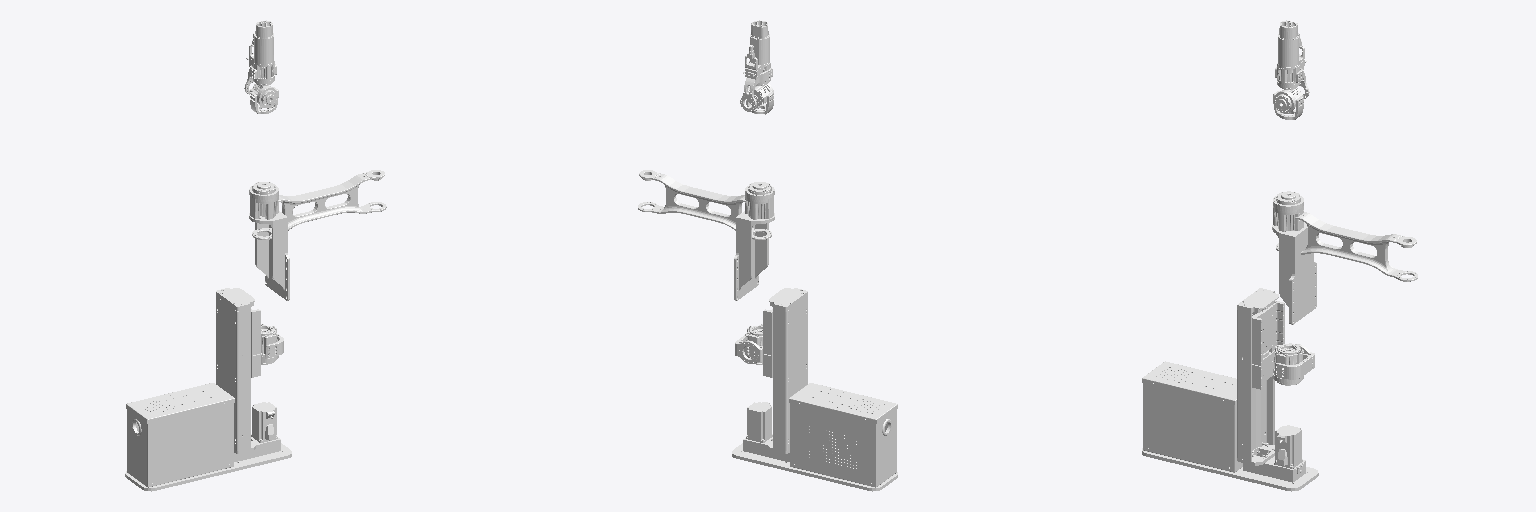
robot.urdf — talon:
<?xml version="1.0" encoding="utf-8"?>
<!-- This URDF was automatically created by SolidWorks to URDF Exporter! Originally created by Stephen Brawner (brawner@gmail.com) 
     Commit Version: 1.6.0-1-g15f4949  Build Version: 1.6.7594.29634
     For more information, please see http://wiki.ros.org/sw_urdf_exporter -->
<robot name="talon">
    <mujoco>
        <compiler strippath="false"/>
    </mujoco>
    <link name="base_link">
        <visual>
            <origin xyz="0 0 0" rpy="0 0 3.1415926535897932384626"/>
            <geometry>
                <mesh filename="meshes/base_link.STL"/>
            </geometry>
            <material name="">
                <color rgba="1 1 1 1"/>
            </material>
        </visual>
        <collision>
            <origin xyz="0 0 0" rpy="0 0 3.1415926535897932384626"/>
            <geometry>
                <mesh filename="meshes/base_link.STL"/>
            </geometry>
        </collision>
    </link>
    <link name="link_1">
        <inertial>
        <origin
            xyz="0.0 0.008 -0.071"
            rpy="0 0 0" />
        <mass
            value="5.683" />
        <inertia
            ixx="0.075"
            ixy="0"
            ixz="0"
            iyy="0.075"
            iyz="-0.002"
            izz="0.012" />
        </inertial>
        <visual>
            <origin xyz="0 0 0" rpy="0 0 0"/>
            <geometry>
                <mesh filename="meshes/link_1.STL"/>
            </geometry>
            <material name="">
                <color rgba="1 1 1 1"/>
            </material>
        </visual>
        <collision>
            <origin xyz="0 0 0" rpy="0 0 3.1415926535897932384626"/>
            <geometry>
                <mesh filename="meshes/link_1.STL"/>
            </geometry>
        </collision>
    </link>
    <joint name="joint_1" type="continuous">
        <origin xyz="0.0 0.0 0.348" rpy="0 0 0"/>
        <parent link="base_link"/>
        <child link="link_1"/>
        <axis xyz="0 0 1"/>
        <hardware id="0" type="driver">
            <limit lower="-2.84" upper="2.84"  vel="3.0" acc="10.0" jerk="150.0" effort="30.0"/>
            <transform ratio="1.0" offset_pos_cnt="0" cnt_per_unit="156455.678" torque_per_unit="1.0"
                       user_unit_name="rad"/>
             <inputs name="Inputs">
                <status_word>Statusword</status_word>
                <position_actual_value>Position actual value</position_actual_value>
                <velocity_actual_value>Velocity actual value</velocity_actual_value>
                <torque_actual_value>Torque actual value</torque_actual_value>
                <load_torque_value>Analog Input 1</load_torque_value>
                <secondary_position_value>Auxiliary position actual value</secondary_position_value>
                <secondary_velocity_value>Secondary velocity value</secondary_velocity_value>
            </inputs>
            <outputs name="Outputs">
                <control_word>Controlword</control_word>
                <mode_of_operation>Modes of operation</mode_of_operation>
                <target_position>Target position</target_position>
                <target_velocity>Target velocity</target_velocity>
                <target_torque>Target torque</target_torque>
            </outputs>        
        </hardware>
    </joint>
    <link name="link_2">
    <inertial>
        <origin
            xyz="0.000 0.117 0.024"
            rpy="0 0 0" />
        <mass
            value="3.99" />
        <inertia
            ixx="0.099"
            ixy="0"
            ixz="0"
            iyy="0.01"
            iyz="0.002"
            izz="0.096" />
        </inertial>
        
        <visual>
            <origin xyz="0 0 0" rpy="0 0 0"/>
            <geometry>
                <mesh filename="meshes/link_2.STL"/>
            </geometry>
            <material name="">
                <color rgba="1 1 1 1"/>
            </material>
        </visual>
        <collision>
            <origin xyz="0 0 0" rpy="0 0 3.1415926535897932384626"/>
            <geometry>
                <mesh filename="meshes/link_2.STL"/>
            </geometry>
        </collision>
    </link>
    <joint name="joint_2" type="continuous">
        <origin xyz="0 0 0" rpy="1.5707963267948966 0 0"/>
        <parent link="link_1"/>
        <child link="link_2"/>
        <axis xyz="0 0 1"/>
        <hardware id="1" type="driver">
            <limit lower="-2.22" upper="2.22" vel="3.0" acc="10.0" jerk="150.0" effort="30.0" />
            <transform ratio="1.0" offset_pos_cnt="0" cnt_per_unit="156455.678" torque_per_unit="1.0" user_unit_name="rad"/>
            <inputs name="Inputs">
                <status_word>Statusword</status_word>
                <position_actual_value>Position actual value</position_actual_value>
                <velocity_actual_value>Velocity actual value</velocity_actual_value>
                <torque_actual_value>Torque actual value</torque_actual_value>
                <load_torque_value>Analog Input 1</load_torque_value>
                <secondary_position_value>Auxiliary position actual value</secondary_position_value>
                <secondary_velocity_value>Secondary velocity value</secondary_velocity_value>
            </inputs>
            <outputs name="Outputs">
                <control_word>Controlword</control_word>
                <mode_of_operation>Modes of operation</mode_of_operation>
                <target_position>Target position</target_position>
                <target_velocity>Target velocity</target_velocity>
                <target_torque>Target torque</target_torque>
            </outputs>  
        </hardware>
    </joint>
    <link name="link_3">
        <inertial>
        <origin
            xyz="0.000 0.009 -0.058"
            rpy="0 0 0" />
        <mass
            value="3.685" />
        <inertia
            ixx="0.034"
            ixy="0"
            ixz="0"
            iyy="0.021"
            iyz="-0.001"
            izz="0.006" />
        </inertial>
        <visual>
            <origin xyz="0 0 0" rpy="0 0 0"/>
            <geometry>
                <mesh filename="meshes/link_3.STL"/>
            </geometry>
            <material name="">
                <color rgba="1 1 1 1"/>
            </material>
        </visual>
        <collision>
            <origin xyz="0 0 0" rpy="0 0 3.1415926535897932384626"/>
            <geometry>
                <mesh filename="meshes/link_3.STL"/>
            </geometry>
        </collision>
    </link>
    <joint name="joint_3" type="continuous">
        <origin xyz="0 0.41 0" rpy="-1.5707963267948966 0 0"/>
        <parent link="link_2"/>
        <child link="link_3"/>
        <axis xyz="0 0 1"/>
        <hardware id="2" type="driver">
            <limit lower="-2.84" upper="2.84" vel="3.0" acc="10.0" jerk="150.0" effort="30.0" />
            <transform ratio="1.0" offset_pos_cnt="0" cnt_per_unit="156455.678" torque_per_unit="1.0" user_unit_name="rad"/>
            <inputs name="Inputs">
                <status_word>Statusword</status_word>
                <position_actual_value>Position actual value</position_actual_value>
                <velocity_actual_value>Velocity actual value</velocity_actual_value>
                <torque_actual_value>Torque actual value</torque_actual_value>
                <load_torque_value>Analog Input 1</load_torque_value>
                <secondary_position_value>Auxiliary position actual value</secondary_position_value>
                <secondary_velocity_value>Secondary velocity value</secondary_velocity_value>
            </inputs>
            <outputs name="Outputs">
                <control_word>Controlword</control_word>
                <mode_of_operation>Modes of operation</mode_of_operation>
                <target_position>Target position</target_position>
                <target_velocity>Target velocity</target_velocity>
                <target_torque>Target torque</target_torque>
            </outputs>  
        </hardware>
    </joint>
    <link name="link_4">
        <inertial>
        <origin
            xyz="0.000 0.136 0.016"
            rpy="0 0 0" />
        <mass
            value="3.185" />
        <inertia
            ixx="0.085"
            ixy="0"
            ixz="0"
            iyy="0.006"
            iyz="0.001"
            izz="0.084" />
        </inertial>
        <visual>
            <origin xyz="0 0 0" rpy="0 0 0"/>
            <geometry>
                <mesh filename="meshes/link_4.STL"/>
            </geometry>
            <material name="">
                <color rgba="1 1 1 1"/>
            </material>
        </visual>
        <collision>
            <origin xyz="0 0 0"
                    rpy="0 0 3.1415926535897932384626"/>
            <geometry>
                <mesh filename="meshes/link_4.STL"/>
            </geometry>
        </collision>
    </link>
    <joint name="joint_4" type="continuous">
        <origin xyz="0 0 0" rpy="1.5707963267948966 0 0"/>
        <parent link="link_3"/>
        <child link="link_4"/>
        <axis xyz="0 0 1"/>
        <hardware id="3" type="driver">
            <limit lower="-2.23" upper="2.23" vel="3.0" acc="10.0" jerk="150.0" effort="30.0" />
            <transform ratio="1.0" offset_pos_cnt="0" cnt_per_unit="156455.678" torque_per_unit="1.0" user_unit_name="rad"/>
            <inputs name="Inputs">
                <status_word>Statusword</status_word>
                <position_actual_value>Position actual value</position_actual_value>
                <velocity_actual_value>Velocity actual value</velocity_actual_value>
                <torque_actual_value>Torque actual value</torque_actual_value>
                <load_torque_value>Analog Input 1</load_torque_value>
                <secondary_position_value>Auxiliary position actual value</secondary_position_value>
                <secondary_velocity_value>Secondary velocity value</secondary_velocity_value>
            </inputs>
            <outputs name="Outputs">
                <control_word>Controlword</control_word>
                <mode_of_operation>Modes of operation</mode_of_operation>
                <target_position>Target position</target_position>
                <target_velocity>Target velocity</target_velocity>
                <target_torque>Target torque</target_torque>
            </outputs>  
        </hardware>
    </joint>
    <link name="link_5">
        <inertial>
        <origin
            xyz="0 0.008 -0.071"
            rpy="0 0 0" />
        <mass
            value="2.932" />
        <inertia
            ixx="0.032"
            ixy="0"
            ixz="0.003"
            iyy="0.032"
            iyz="-0.001"
            izz="0.004" />
        </inertial>
        <visual>
            <origin xyz="0 0 0" rpy="0 0 0"/>
            <geometry>
                <mesh filename="meshes/link_5.STL"/>
            </geometry>
            <material name="">
                <color rgba="1 1 1 1"/>
            </material>
        </visual>
        <collision>
            <origin xyz="0 0 0" rpy="0 0 3.1415926535897932384626"/>
            <geometry>
                <mesh filename="meshes/link_5.STL"/>
            </geometry>
        </collision>
    </link>
    <joint name="joint_5" type="continuous">
        <origin xyz="0 0.401 0" rpy="-1.5707963267948966 0 0"/>
        <parent link="link_4"/>
        <child link="link_5"/>
        <axis xyz="0 0 1"/>
        <hardware id="4" type="driver">
            <limit lower="-2.71" upper="2.71" vel="3.0" acc="10.0" jerk="150.0" effort="30.0" />
            <transform ratio="1.0" offset_pos_cnt="0" cnt_per_unit="156455.678" torque_per_unit="1.0" user_unit_name="rad"/>
            <inputs name="Inputs">
                <status_word>Statusword</status_word>
                <position_actual_value>Position actual value</position_actual_value>
                <velocity_actual_value>Velocity actual value</velocity_actual_value>
                <torque_actual_value>Torque actual value</torque_actual_value>
                <load_torque_value>Analog Input 1</load_torque_value>
                <secondary_position_value>Auxiliary position actual value</secondary_position_value>
                <secondary_velocity_value>Secondary velocity value</secondary_velocity_value>
            </inputs>
            <outputs name="Outputs">
                <control_word>Controlword</control_word>
                <mode_of_operation>Modes of operation</mode_of_operation>
                <target_position>Target position</target_position>
                <target_velocity>Target velocity</target_velocity>
                <target_torque>Target torque</target_torque>
            </outputs>  
        </hardware>
    </joint>
    <link name="link_6">
         <inertial>
        <origin
            xyz="0.000 0.089 0.018"
            rpy="0 0 0" />
        <mass
            value="2.043" />
        <inertia
            ixx="0.029"
            ixy="0"
            ixz="0"
            iyy="0.003"
            iyz="0.001"
            izz="0.028" />
        </inertial>
        <visual>
            <origin xyz="0 0 0" rpy="0 0 0"/>
            <geometry>
                <mesh filename="meshes/link_6.STL"/>
            </geometry>
            <material name="">
                <color rgba="1 1 1 1"/>
            </material>
        </visual>
        <collision>
            <origin xyz="0 0 0" rpy="0 0 3.1415926535897932384626"/>
            <geometry>
                <mesh filename="meshes/link_6.STL"/>
            </geometry>
        </collision>
    </link>
    <joint name="joint_6" type="continuous">
        <origin xyz="0 0 0" rpy="1.5707963267948966 0 0"/>
        <parent link="link_5"/>
        <child link="link_6"/>
        <axis xyz="0 0 1"/>
        <hardware id="5" type="driver">
            <limit lower="-2.11" upper="2.11" vel="3.0" acc="10.0" jerk="150.0" effort="30.0" />
            <transform ratio="1.0" offset_pos_cnt="0" cnt_per_unit="130379.73" torque_per_unit="1.0" user_unit_name="rad"/>
            <inputs name="Inputs">
                <status_word>Statusword</status_word>
                <position_actual_value>Position actual value</position_actual_value>
                <velocity_actual_value>Velocity actual value</velocity_actual_value>
                <torque_actual_value>Torque actual value</torque_actual_value>
                <load_torque_value>Analog Input 1</load_torque_value>
                <secondary_position_value>Auxiliary position actual value</secondary_position_value>
                <secondary_velocity_value>Secondary velocity value</secondary_velocity_value>
            </inputs>
            <outputs name="Outputs">
                <control_word>Controlword</control_word>
                <mode_of_operation>Modes of operation</mode_of_operation>
                <target_position>Target position</target_position>
                <target_velocity>Target velocity</target_velocity>
                <target_torque>Target torque</target_torque>
            </outputs>  
        </hardware>
    </joint>
    <link name="link_7">
        <inertial>
        <origin
            xyz="0.000 0.00 -0.032"
            rpy="0 0 0" />
        <mass
            value="0.994" />
        <inertia
            ixx="0.002"
            ixy="0"
            ixz="0"
            iyy="0.002"
            iyz="0"
            izz="0.001" />
        </inertial>
        <visual>
            <origin xyz="0 0 0" rpy="0 0 0"/>
            <geometry>
                <mesh filename="meshes/link_7.STL"/>
            </geometry>
            <material name="">
                <color rgba="1 1 1 1"/>
            </material>
        </visual>
        <collision>
            <origin xyz="0 0 0" rpy="0 0 0"/>
            <geometry>
                <mesh filename="meshes/link_7.STL"/>
            </geometry>
        </collision>
    </link>
    <joint name="joint_7" type="continuous">
        <origin xyz="0 0.230 0" rpy="-1.5707963267948966 0 0"/>
        <parent link="link_6"/>
        <child link="link_7"/>
        <axis xyz="0 0 1"/>
        <hardware id="6" type="driver">
            <limit lower="-2.84" upper="2.84" vel="3.0" acc="10.0" jerk="150.0" effort="30.0" />
            <transform ratio="1.0" offset_pos_cnt="0" cnt_per_unit="130379.73" torque_per_unit="1.0" user_unit_name="rad"/>
            <inputs name="Inputs">
                <status_word>Statusword</status_word>
                <position_actual_value>Position actual value</position_actual_value>
                <velocity_actual_value>Velocity actual value</velocity_actual_value>
                <torque_actual_value>Torque actual value</torque_actual_value>
                <load_torque_value>Analog Input 1</load_torque_value>
                <secondary_position_value>Auxiliary position actual value</secondary_position_value>
                <secondary_velocity_value>Secondary velocity value</secondary_velocity_value>
            </inputs>
            <outputs name="Outputs">
                <control_word>Controlword</control_word>
                <mode_of_operation>Modes of operation</mode_of_operation>
                <target_position>Target position</target_position>
                <target_velocity>Target velocity</target_velocity>
                <target_torque>Target torque</target_torque>
            </outputs>  
        </hardware>
    </joint>
</robot>

--- Render facts (derived) ---
3 views of the same robot in one strip: view 1: azimuth 30°, elevation 25°; view 2: azimuth 150°, elevation 25°; view 3: azimuth 330°, elevation 25° (orthographic).
Robot: talon — 8 links, 7 joints (7 continuous); root link base_link; default pose: every joint at zero.
Links seen in each view (by area): view 1: base_link, link_1, link_3, link_7, link_2, link_5, link_6; view 2: base_link, link_1, link_3, link_7, link_2, link_6, link_5; view 3: base_link, link_1, link_3, link_2, link_7, link_5, link_6.
Boxes of the visible links, bbox=[...] form: base_link: bbox=[125, 288, 291, 491]; link_1: bbox=[249, 182, 289, 300]; link_3: bbox=[252, 170, 386, 239]; link_7: bbox=[246, 20, 273, 66]; link_2: bbox=[261, 324, 283, 364]; link_5: bbox=[250, 84, 278, 113]; link_6: bbox=[244, 61, 276, 94]; base_link: bbox=[732, 288, 897, 491]; link_1: bbox=[734, 182, 774, 300]; link_3: bbox=[638, 170, 771, 239]; link_7: bbox=[742, 20, 769, 79]; link_2: bbox=[735, 324, 762, 364]; link_6: bbox=[740, 61, 772, 111]; link_5: bbox=[745, 84, 773, 114]; base_link: bbox=[1142, 288, 1318, 491]; link_1: bbox=[1272, 191, 1316, 324]; link_3: bbox=[1276, 212, 1417, 281]; link_2: bbox=[1273, 343, 1314, 385]; link_7: bbox=[1278, 20, 1307, 69]; link_5: bbox=[1273, 88, 1303, 119]; link_6: bbox=[1275, 63, 1309, 98].
Size in the robot's own frame: 0.8515 by 0.147 by 1.39 metres.
7 mesh visuals loaded from 8 distinct referenced files (7 binary STL); not drawn: 1 (reference not matched to a file when rendering).
